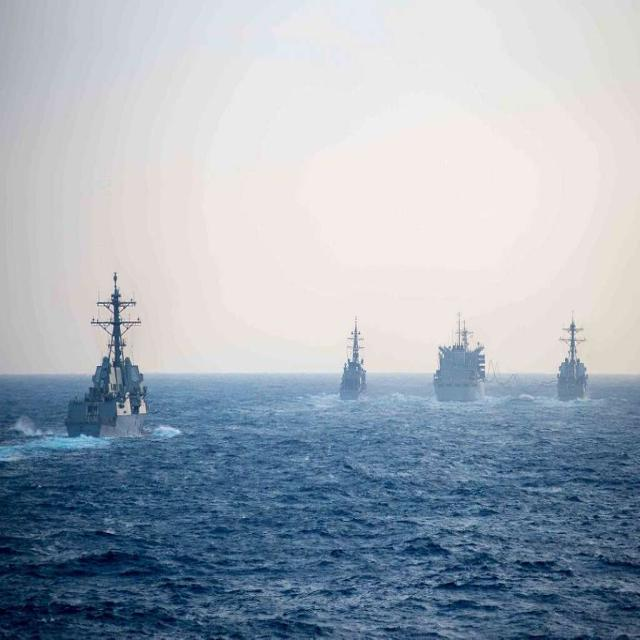navalvessels: (73, 271, 158, 449), (418, 317, 487, 405), (555, 318, 595, 411), (332, 319, 371, 400)
